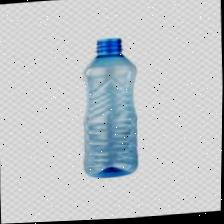plastic: (78, 35, 143, 181)
